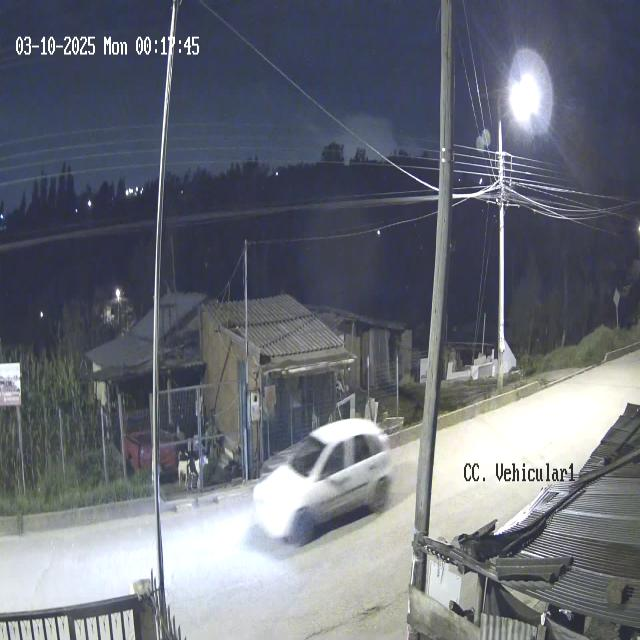SED: (253, 415, 392, 547)
